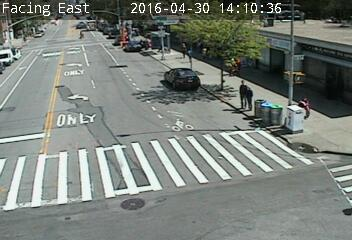neg: (92, 76, 131, 127), (64, 96, 94, 137), (55, 27, 83, 63), (102, 178, 129, 214), (150, 117, 176, 151), (17, 129, 42, 164), (291, 132, 313, 162), (184, 48, 204, 76), (131, 46, 151, 72), (203, 122, 221, 146), (259, 153, 276, 176), (294, 93, 310, 115), (186, 173, 202, 193), (215, 63, 230, 83)
pos: (228, 76, 249, 104), (244, 88, 260, 110)
